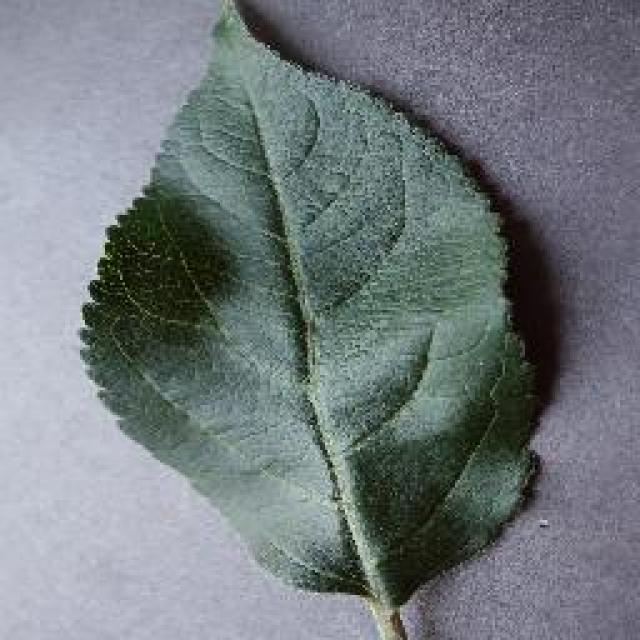apple healthy: (75, 0, 550, 635)
